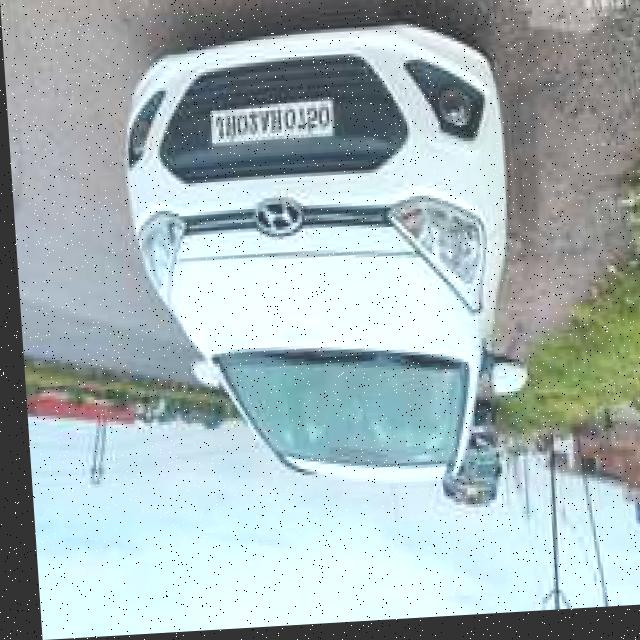plate: (204, 98, 335, 153)
